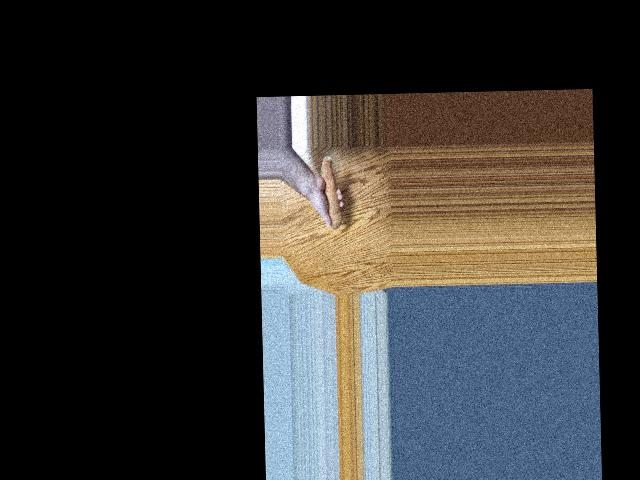sweet_potato: (318, 156, 344, 228)
